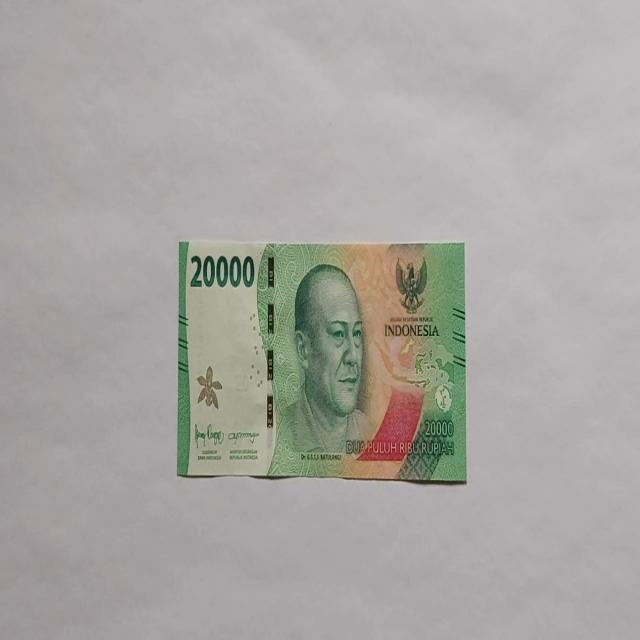dua puluh ribu rupiah: (177, 238, 467, 484), (271, 260, 378, 474)
